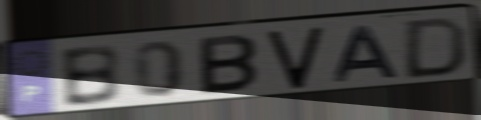0: (131, 38, 187, 102)
A: (332, 23, 403, 84)
B: (56, 43, 124, 110), (197, 33, 261, 98)
D: (400, 15, 470, 81)
V: (265, 23, 327, 92)
